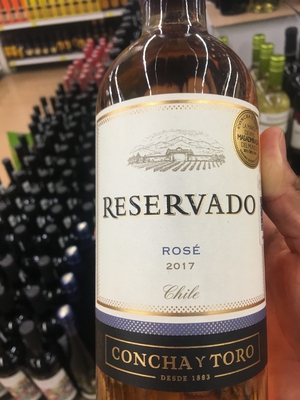reservado rose: (85, 1, 277, 393)
